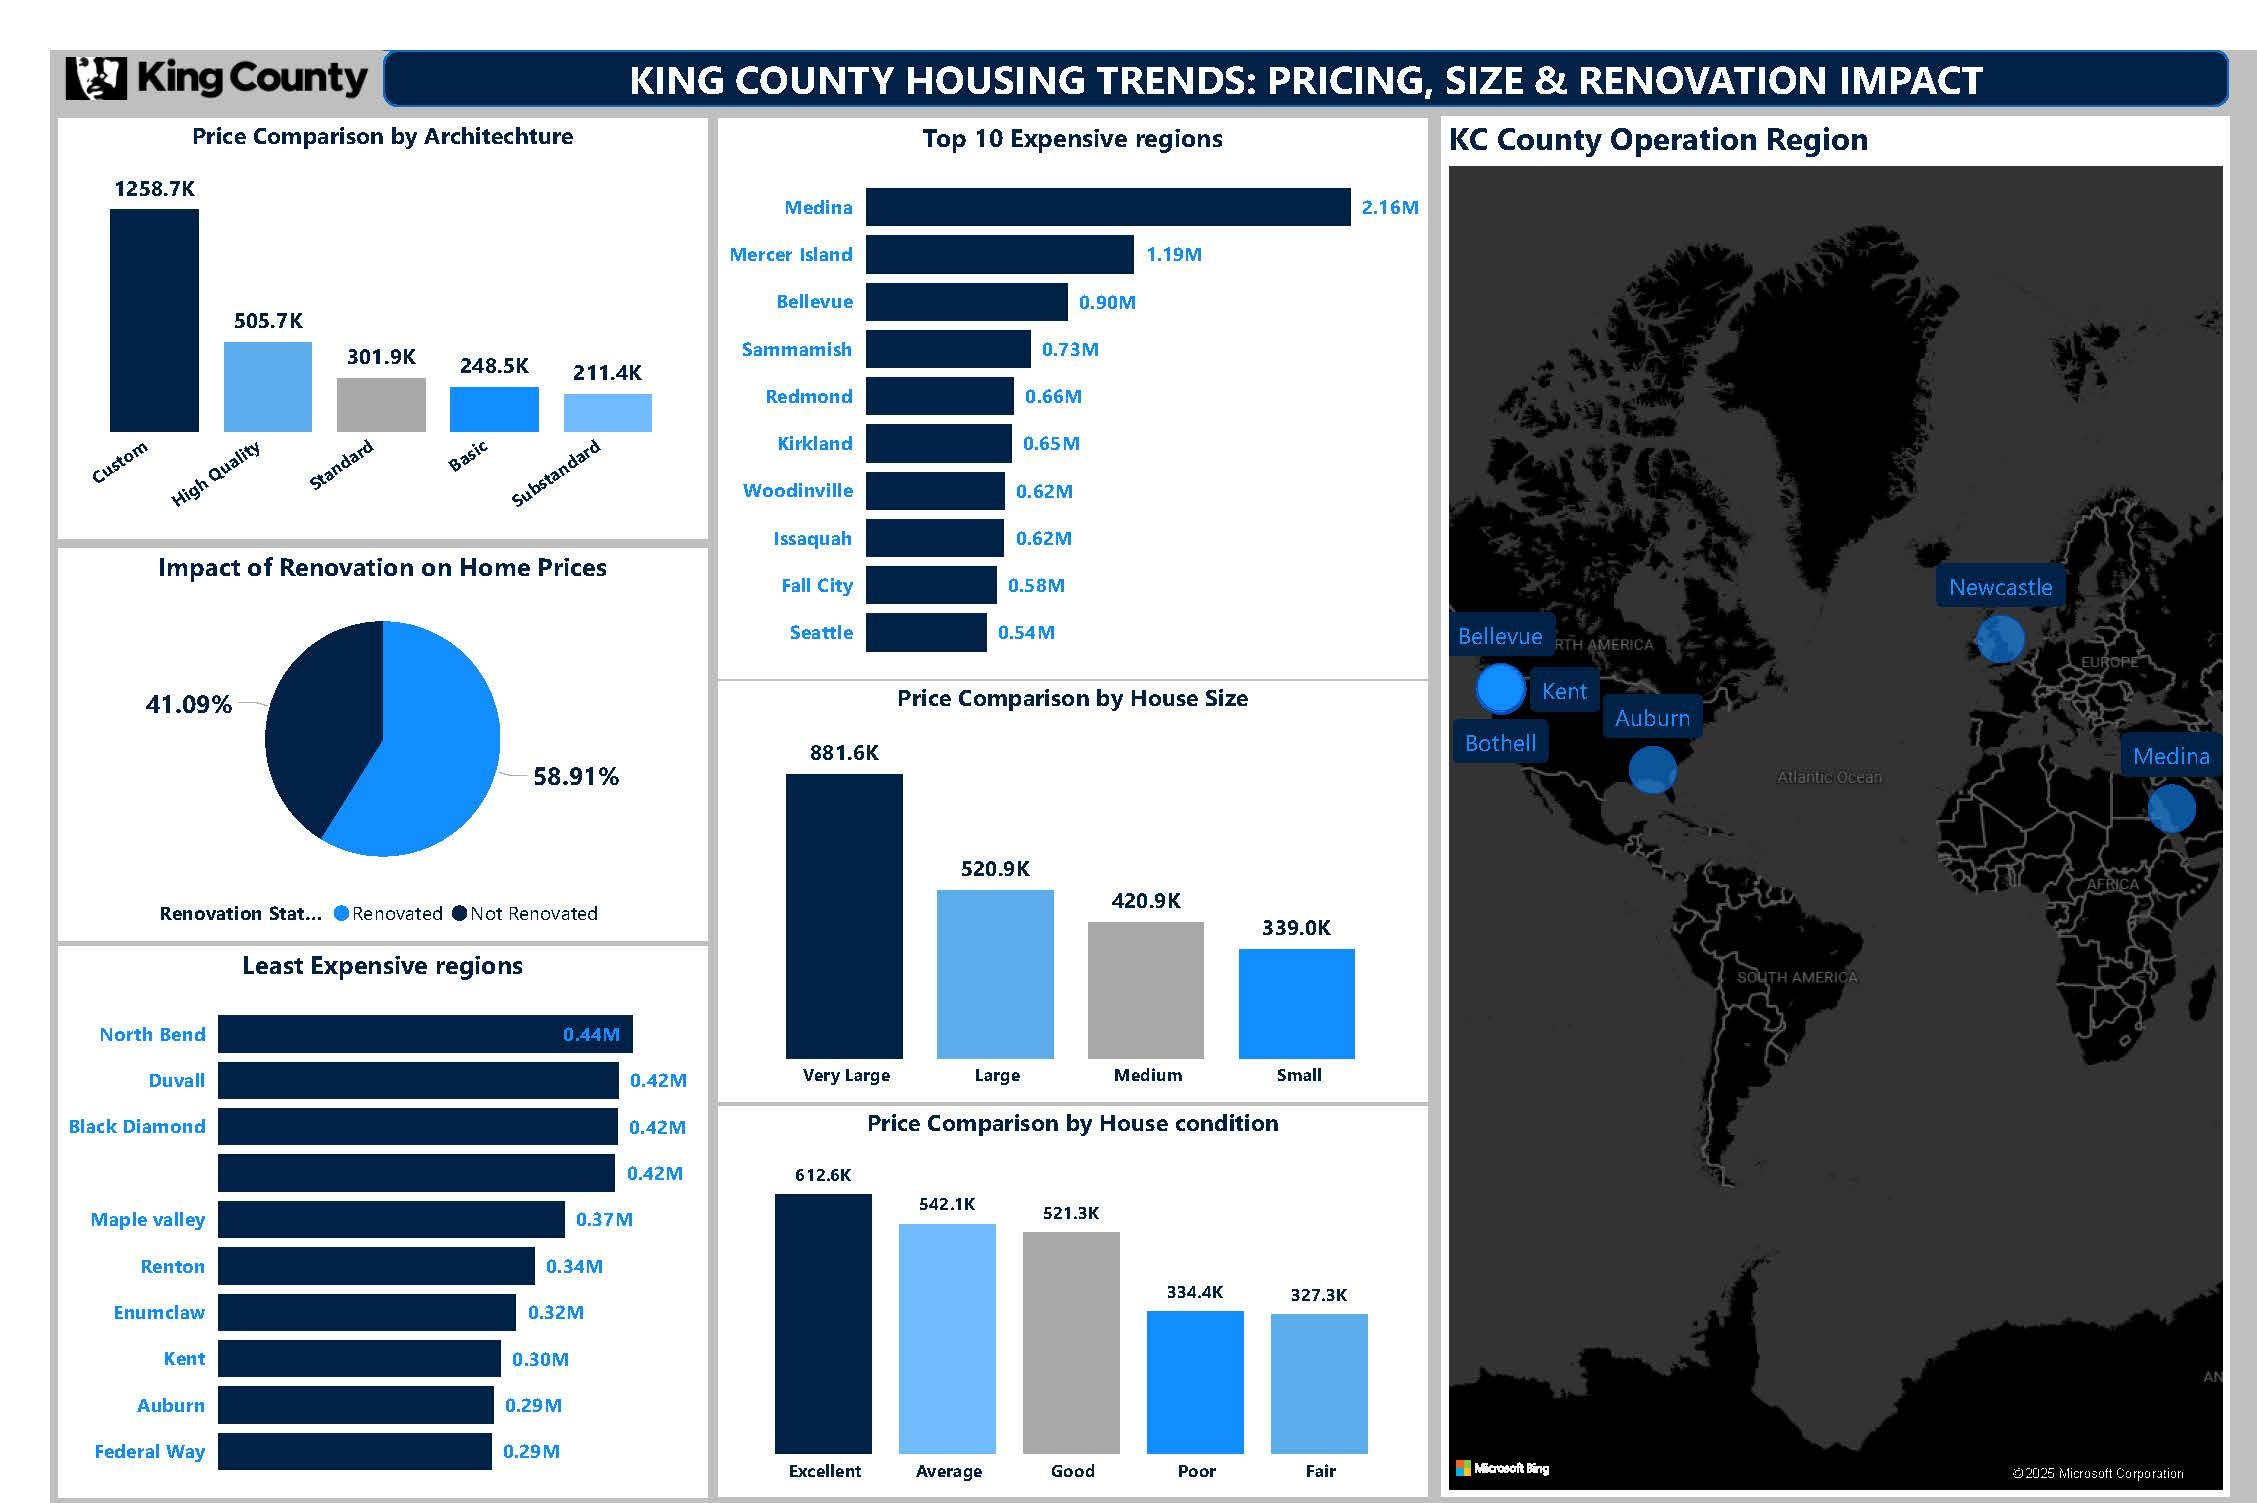

The dashboard page shown, as its layout file describes it:
{"tool":"powerbi","page":{"name":"Duplicate of Page 1","canvas":[1500,1000],"ordinal":1},"visuals":[{"type":"shape","box":[228.6,0,1265.3,38.8],"z":0},{"type":"image","box":[0,0,228.6,38.8],"z":1000},{"type":"pieChart","title":"Impact of Renovation on Home Prices","fields":{"Category":["KC Cleaned.Renovation Status"],"Y":["KC Cleaned.Average Price"]},"box":[6.1,340.8,444.9,269.4],"z":2000},{"type":"columnChart","title":"Price Comparison by House Size ","fields":{"Category":["KC Cleaned.House Size"],"Y":["KC Cleaned.Average Price"]},"box":[459.2,432.7,485.7,287.8],"z":3000},{"type":"columnChart","title":"Price Comparison by House condition","fields":{"Category":["KC Cleaned.Habitability"],"Y":["KC Cleaned.Average Price"]},"box":[459.2,724.5,485.7,267.3],"z":4000},{"type":"columnChart","title":"Price Comparison by Architechture","fields":{"Category":["KC Cleaned.Architechture"],"Y":["KC Cleaned.Average Price"]},"box":[6.1,46.9,444.9,287.8],"z":5000},{"type":"clusteredBarChart","title":"Top 10 Expensive regions","fields":{"Category":["KC Cleaned.City"],"Y":["KC Cleaned.Avg Price by City"]},"box":[459.2,46.9,485.7,383.7],"z":6000},{"type":"map","title":"Average Home Prices by City","fields":{"Category":["KC Cleaned.City"]},"box":[954,46,540,510],"z":7000},{"type":"clusteredBarChart","title":" Least Expensive regions","fields":{"Category":["KC Cleaned.City"],"Y":["KC Cleaned.Avg Price by City"]},"box":[6.1,614.3,444.9,377.6],"z":8000},{"type":"map","title":"Average Home Prices by City","fields":{"Category":["KC Cleaned.City"]},"box":[954,566,540,424],"z":9000}]}

Visuals, with their boxes in screenshot pixels (x1, y1, x2, y2), scaled from the page's 1500x1000 canvas onto the 2257x1503 screenshot:
shape: {"x1": 344, "y1": 0, "x2": 2248, "y2": 58}
image: {"x1": 0, "y1": 0, "x2": 344, "y2": 58}
"Impact of Renovation on Home Prices" pieChart: {"x1": 9, "y1": 512, "x2": 679, "y2": 917}
"Price Comparison by House Size " columnChart: {"x1": 691, "y1": 650, "x2": 1422, "y2": 1083}
"Price Comparison by House condition" columnChart: {"x1": 691, "y1": 1089, "x2": 1422, "y2": 1491}
"Price Comparison by Architechture" columnChart: {"x1": 9, "y1": 70, "x2": 679, "y2": 503}
"Top 10 Expensive regions" clusteredBarChart: {"x1": 691, "y1": 70, "x2": 1422, "y2": 647}
"Average Home Prices by City" map: {"x1": 1435, "y1": 69, "x2": 2248, "y2": 836}
" Least Expensive regions" clusteredBarChart: {"x1": 9, "y1": 923, "x2": 679, "y2": 1491}
"Average Home Prices by City" map: {"x1": 1435, "y1": 851, "x2": 2248, "y2": 1488}
